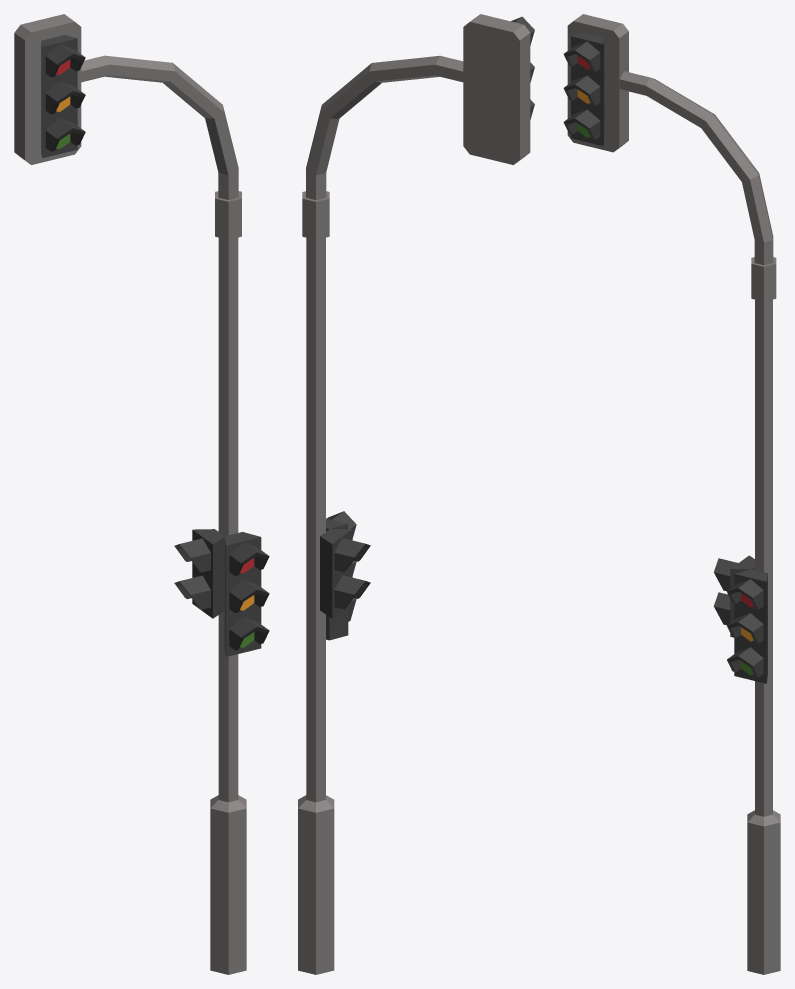
File: traffic-lights.fbx
3 views of the same model, side by side, from view 1: azimuth 30°, elevation 25°; view 2: azimuth 150°, elevation 25°; view 3: azimuth 330°, elevation 25° (orthographic). The views are drawn at different scales.
Parts seen in each view (by area): view 1: traffic-lights; view 2: traffic-lights; view 3: traffic-lights.
Part boxes in pixels (bbox=[...]): traffic-lights: bbox=[14, 14, 269, 974]; traffic-lights: bbox=[298, 14, 534, 974]; traffic-lights: bbox=[563, 14, 780, 974].
Size of the model in its own units: 2.2 by 9.13 by 0.6424.
